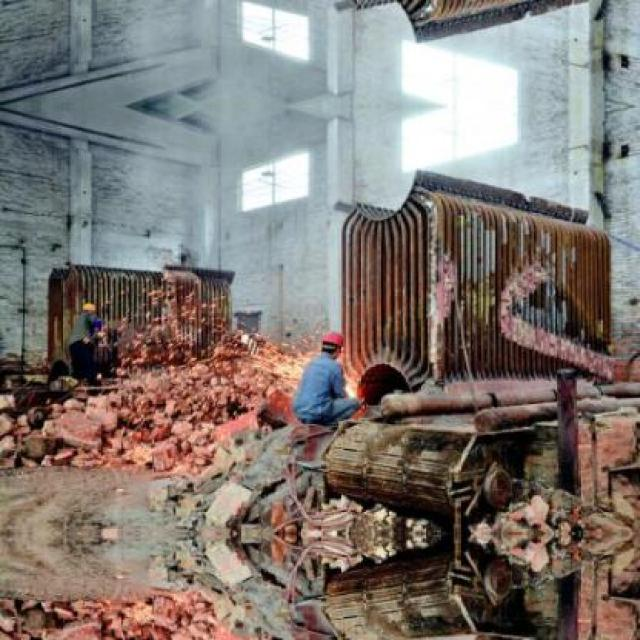helmet: (319, 326, 343, 360), (81, 298, 97, 317)
